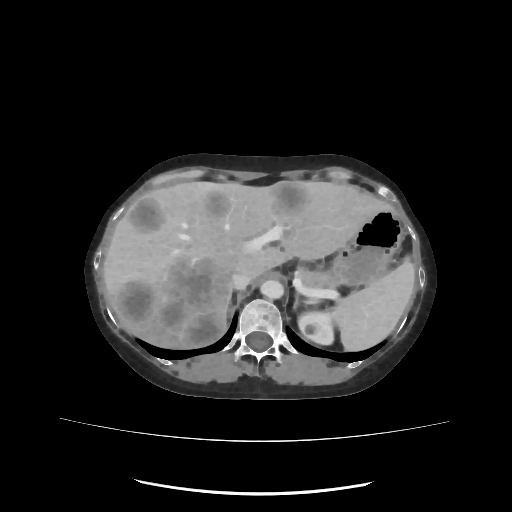Lesion: (107, 259, 237, 350), (300, 320, 320, 341)
